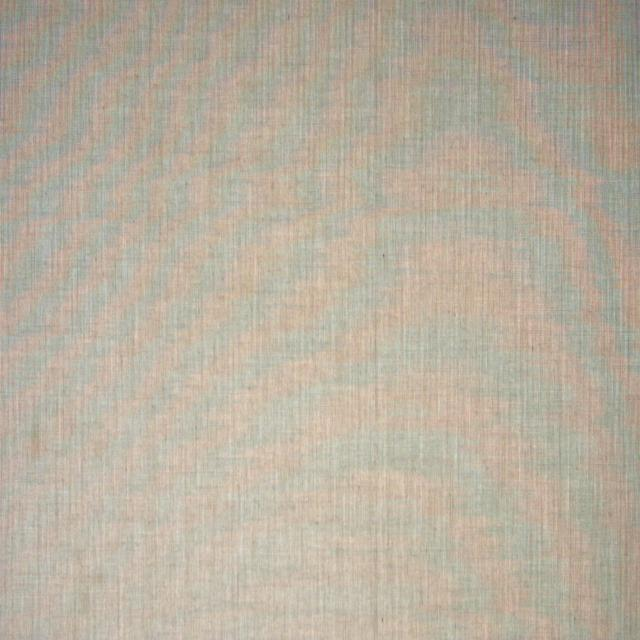dirty: (33, 424, 38, 456), (83, 589, 89, 614), (94, 572, 105, 584)
